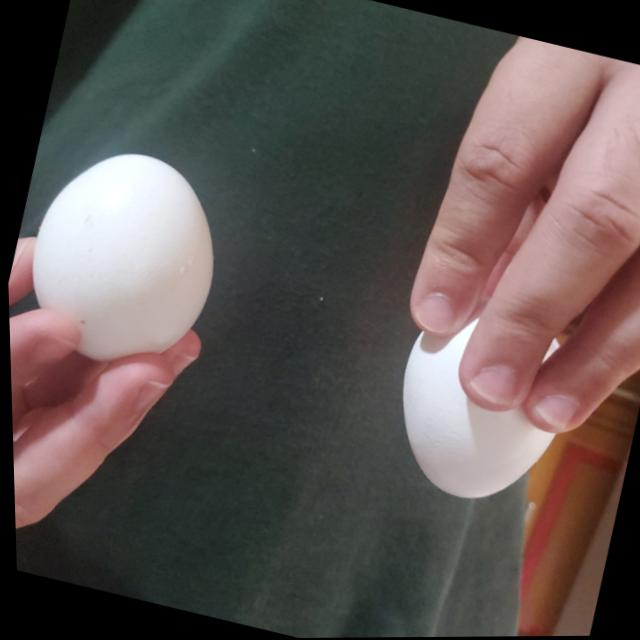egg: (10, 130, 243, 380), (369, 295, 576, 519)
